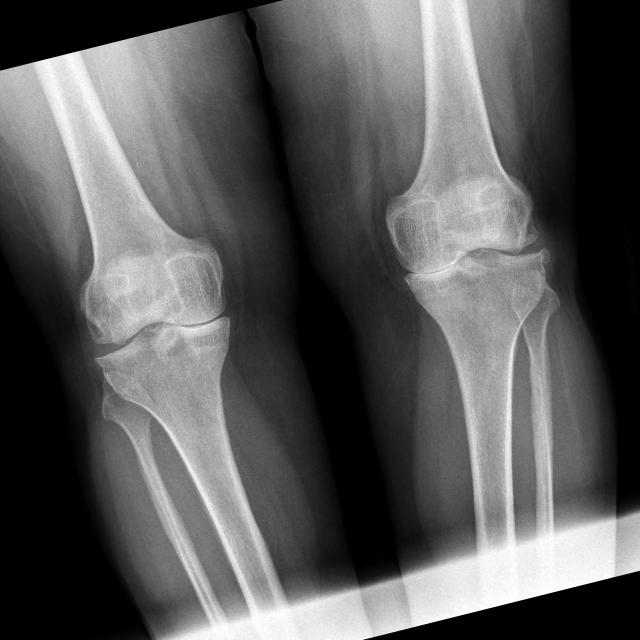Knee: (69, 243, 250, 402), (379, 175, 559, 333)
